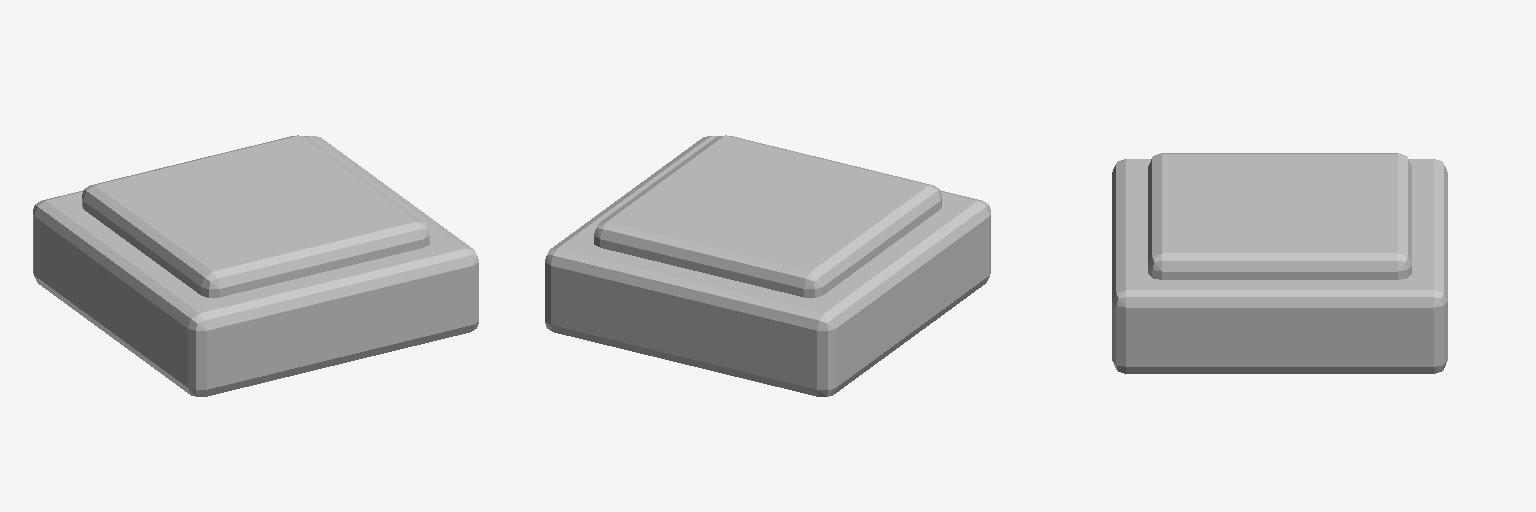
The model's file is Button_Pressed.obj.
3 renders of one model, left to right at view 1: azimuth 30°, elevation 25°; view 2: azimuth 150°, elevation 25°; view 3: azimuth 270°, elevation 25°, orthographic.
Parts seen in each view (by area): view 1: Button_Pressed_Cube.510; view 2: Button_Pressed_Cube.510; view 3: Button_Pressed_Cube.510.
Part boxes in pixels (bbox=[...]): Button_Pressed_Cube.510: bbox=[33, 135, 478, 396]; Button_Pressed_Cube.510: bbox=[545, 135, 990, 396]; Button_Pressed_Cube.510: bbox=[1112, 153, 1447, 373].
Bounding box in the file's own units: 1.32 × 0.4569 × 1.32.